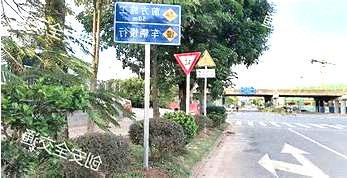sign: (115, 3, 181, 45)
